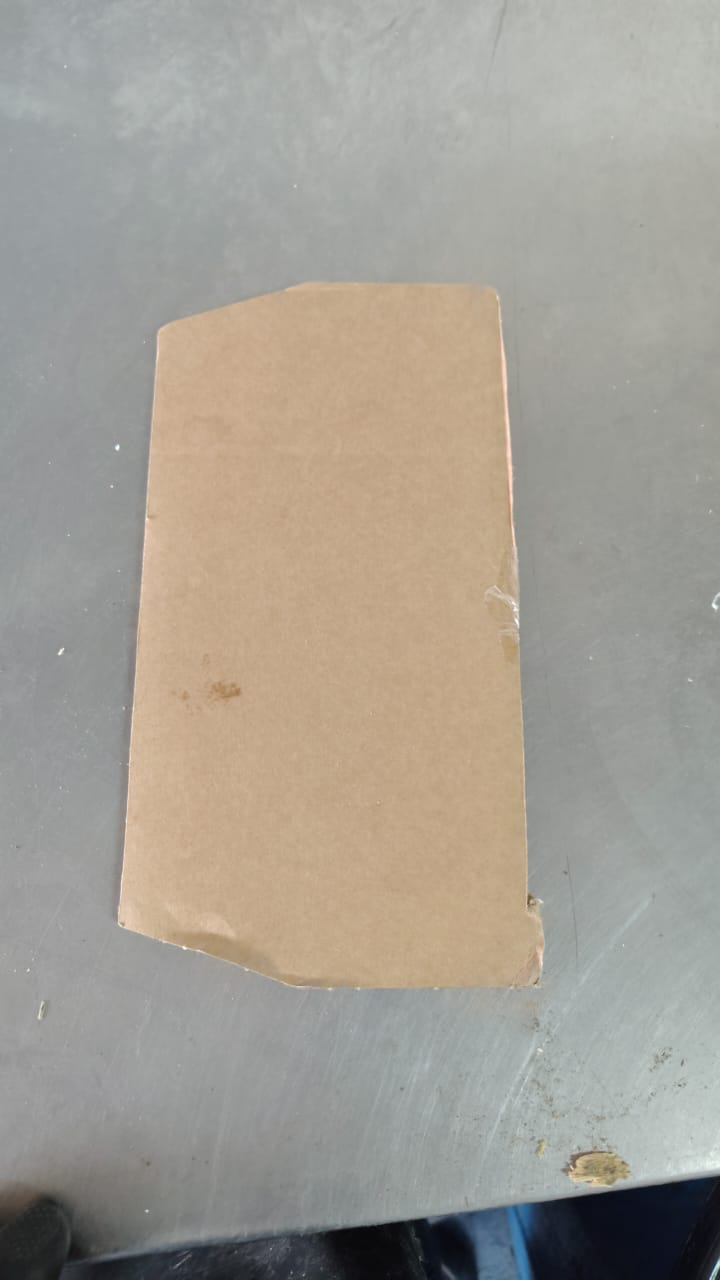Carton: (112, 282, 537, 982)
